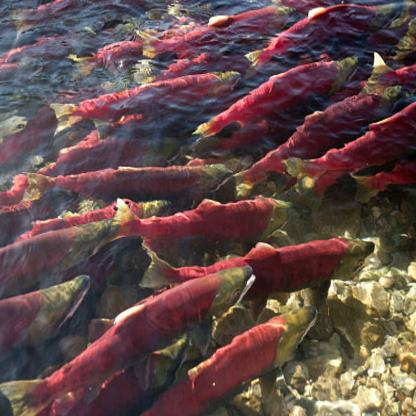sockeye: (29, 276, 244, 400), (47, 58, 246, 133), (187, 298, 316, 397), (212, 54, 360, 138), (300, 102, 415, 210), (125, 186, 286, 262), (261, 88, 378, 168), (190, 232, 373, 282), (260, 0, 414, 56), (62, 154, 226, 204), (0, 206, 106, 268), (158, 10, 288, 46)
sockeye-group: (0, 1, 411, 407)
